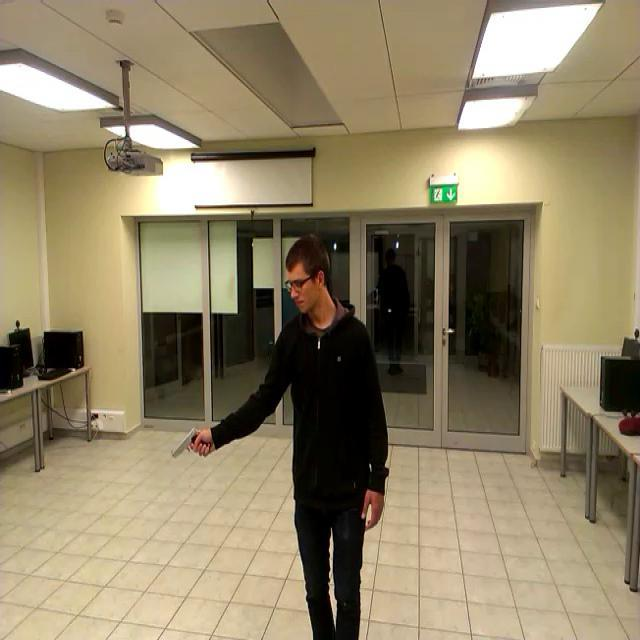Gun: (170, 426, 210, 457)
